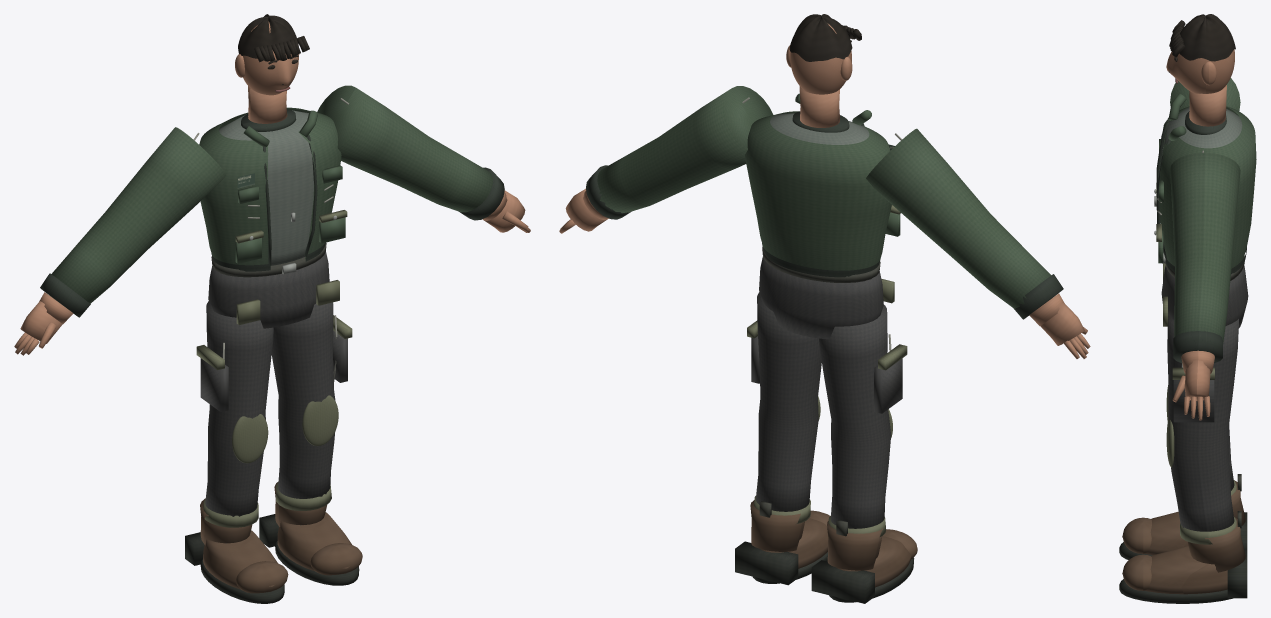
Rendered from ProjectZ_SurvivorMale_Woodland_UNRIGGED.glb.
3 renders of one model, left to right at view 1: azimuth 30°, elevation 25°; view 2: azimuth 150°, elevation 25°; view 3: azimuth 270°, elevation 25°, orthographic. The views are drawn at different scales.
Visible parts, largest first — view 1: CLOTH_Jacket_L_Sleeve, CLOTH_Jacket_R_Sleeve, CLOTH_Pants_L_Leg, CLOTH_Pants_R_Leg, CLOTH_Jacket_OpenFrontShell, CLOTH_Shirt_Torso, CLOTH_Pants_HipAndSeat, BOOT_R_MainUpper, BOOT_L_MainUpper, SKIN_Head_SculptedFace, HAIR_ShortLayeredCap, CLOTH_Pants_R_KneePanel (+16 smaller); view 2: CLOTH_Jacket_OpenFrontShell, CLOTH_Jacket_L_Sleeve, CLOTH_Pants_L_Leg, CLOTH_Pants_R_Leg, CLOTH_Jacket_R_Sleeve, CLOTH_Pants_HipAndSeat, HAIR_ShortLayeredCap, BOOT_R_HeelGuard, BOOT_L_HeelGuard, BOOT_L_Shaft, BOOT_R_Shaft, SKIN_Head_SculptedFace (+11 smaller); view 3: CLOTH_Jacket_R_Sleeve, CLOTH_Pants_R_Leg, CLOTH_Jacket_OpenFrontShell, BOOT_R_MainUpper, HAIR_ShortLayeredCap, SKIN_Head_SculptedFace, BOOT_R_Shaft, CLOTH_Shirt_Torso, CLOTH_Pants_HipAndSeat, SKIN_Neck, BOOT_L_MainUpper, BOOT_R_RubberSole (+16 smaller).
Part boxes in pixels (x1,y1,x2,y2): CLOTH_Jacket_L_Sleeve: (51,127,226,303); CLOTH_Jacket_R_Sleeve: (317,85,492,212); CLOTH_Pants_L_Leg: (205,301,273,516); CLOTH_Pants_R_Leg: (271,302,335,498); CLOTH_Jacket_OpenFrontShell: (199,107,341,265); CLOTH_Shirt_Torso: (219,110,313,265); CLOTH_Pants_HipAndSeat: (208,251,329,328); BOOT_R_MainUpper: (277,512,351,573); BOOT_L_MainUpper: (203,530,277,592); SKIN_Head_SculptedFace: (238,21,298,95); HAIR_ShortLayeredCap: (238,14,298,61); CLOTH_Pants_R_KneePanel: (302,395,338,446); CLOTH_Jacket_OpenFrontShell: (745,111,891,270); CLOTH_Jacket_L_Sleeve: (866,128,1051,308); CLOTH_Pants_L_Leg: (819,305,891,528); CLOTH_Pants_R_Leg: (756,292,821,511); CLOTH_Jacket_R_Sleeve: (597,86,773,213); CLOTH_Pants_HipAndSeat: (759,257,883,339); HAIR_ShortLayeredCap: (789,14,852,61); BOOT_R_HeelGuard: (735,541,798,585); BOOT_L_HeelGuard: (811,560,874,603); BOOT_L_Shaft: (827,521,883,570); BOOT_R_Shaft: (750,500,804,551); SKIN_Head_SculptedFace: (790,23,851,94); CLOTH_Jacket_R_Sleeve: (1170,152,1240,343); CLOTH_Pants_R_Leg: (1167,315,1238,531); CLOTH_Jacket_OpenFrontShell: (1158,106,1256,268); BOOT_R_MainUpper: (1122,546,1227,594); HAIR_ShortLayeredCap: (1179,14,1235,61); SKIN_Head_SculptedFace: (1166,49,1234,93); BOOT_R_Shaft: (1188,518,1245,572); CLOTH_Shirt_Torso: (1162,107,1242,155); CLOTH_Pants_HipAndSeat: (1161,265,1248,328); SKIN_Neck: (1189,85,1226,126); BOOT_L_MainUpper: (1122,511,1188,554); BOOT_R_RubberSole: (1119,579,1232,603).
Bounding box in the file's own units: 1.77 × 1.81 × 0.404.
Materials: 1 (1 with a texture image).
